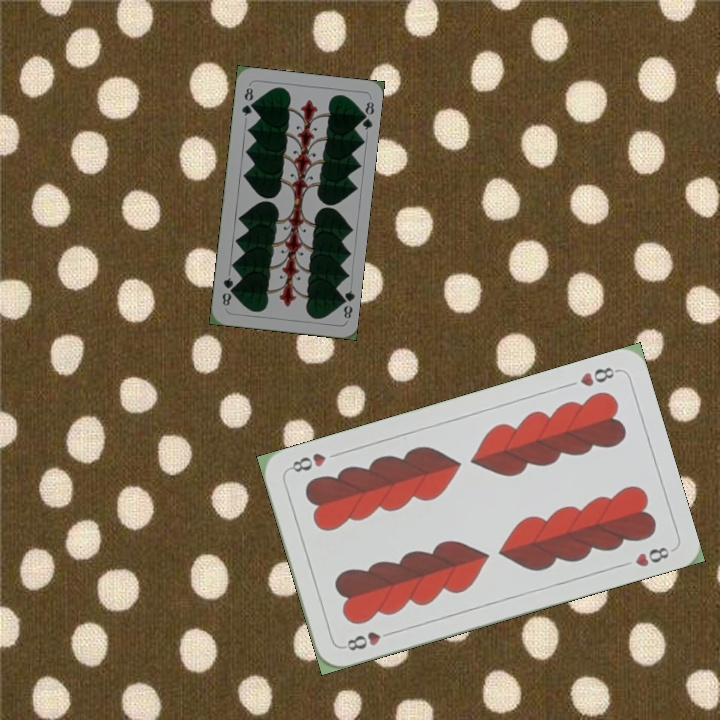G8: (335, 286, 357, 321), (237, 83, 256, 119)
H8: (339, 627, 397, 654), (576, 363, 621, 389)
